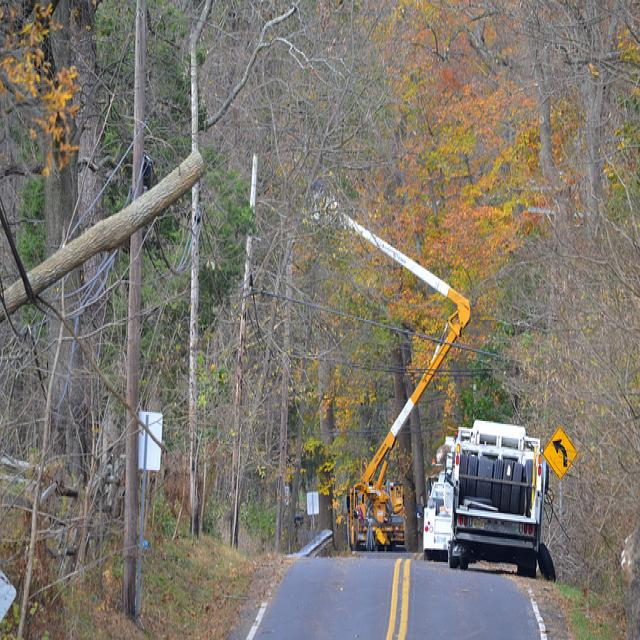Vehicle: (447, 421, 550, 577), (423, 482, 452, 563)
